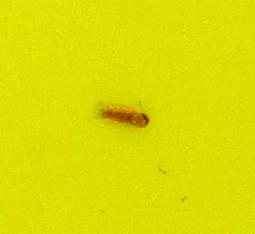Hemiptera: (100, 100, 155, 134)
